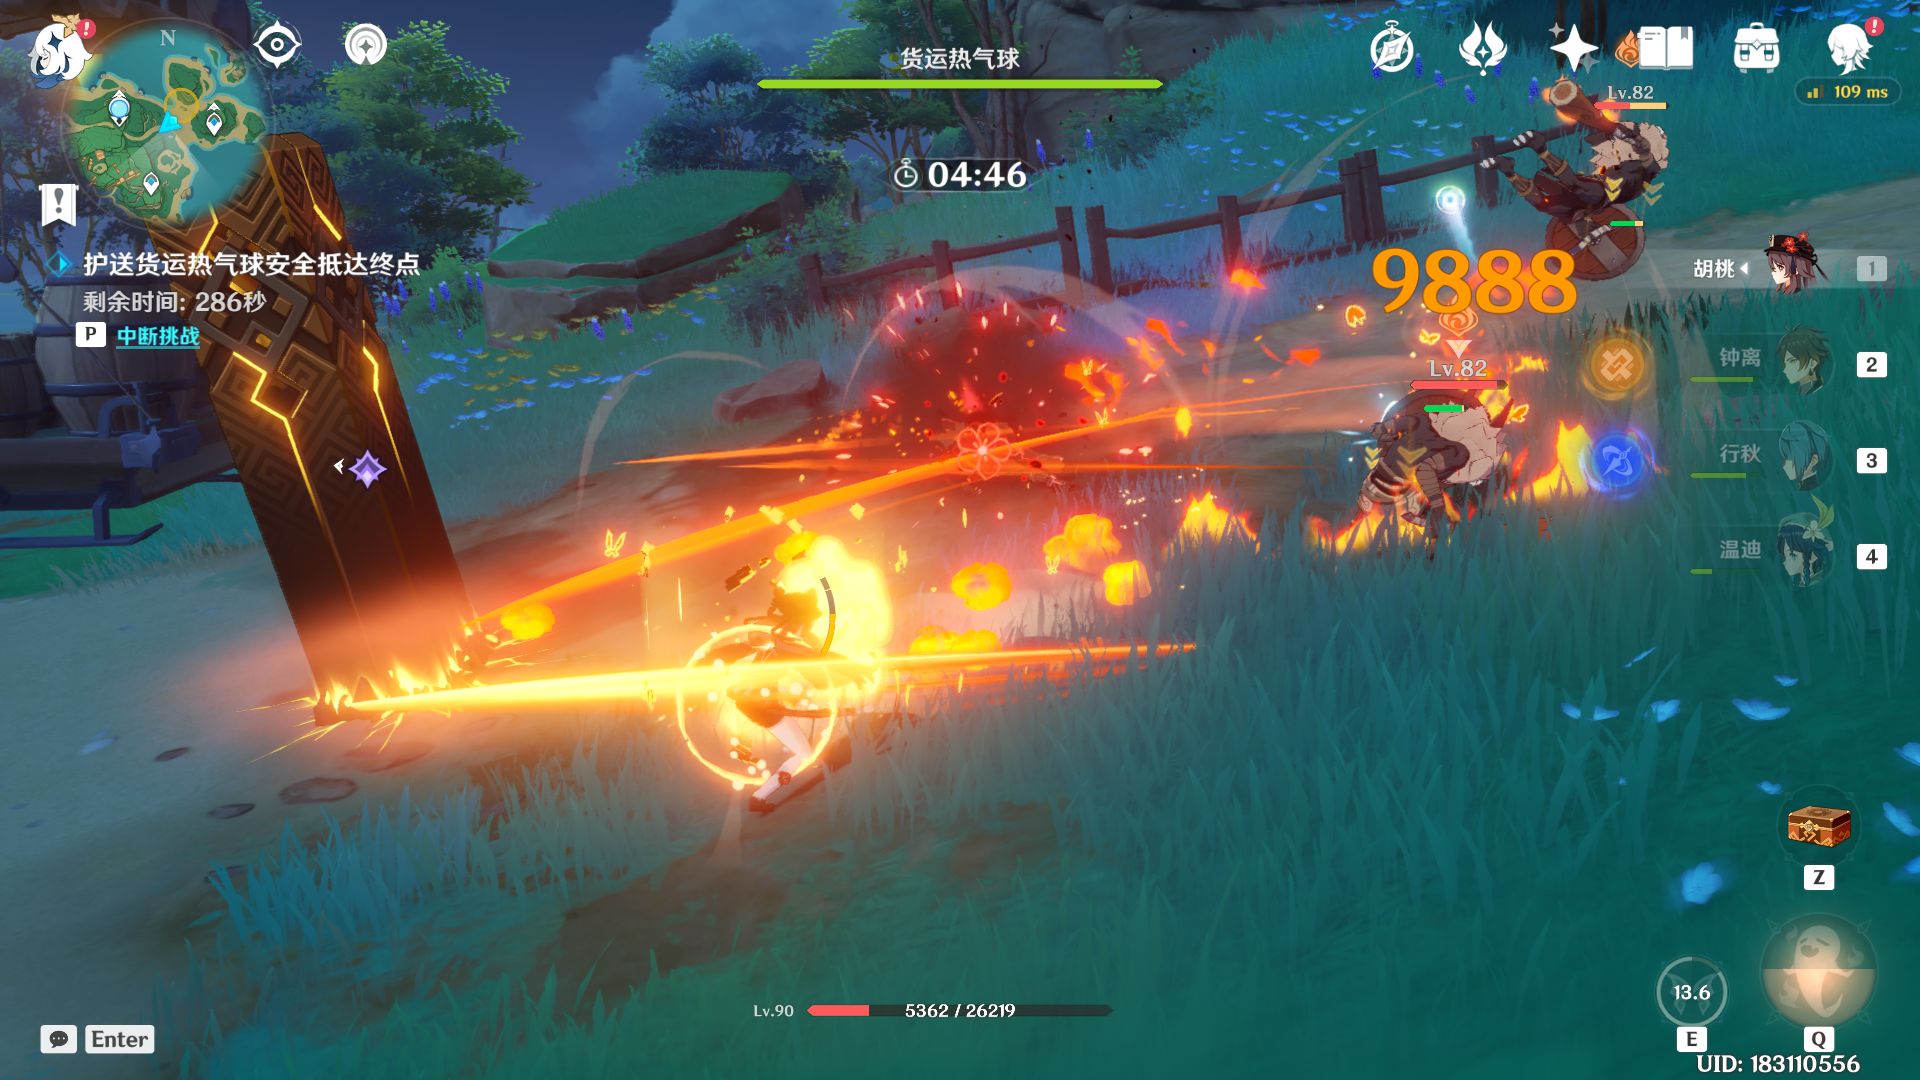hili: (1304, 342, 1557, 593), (1484, 78, 1701, 316)
